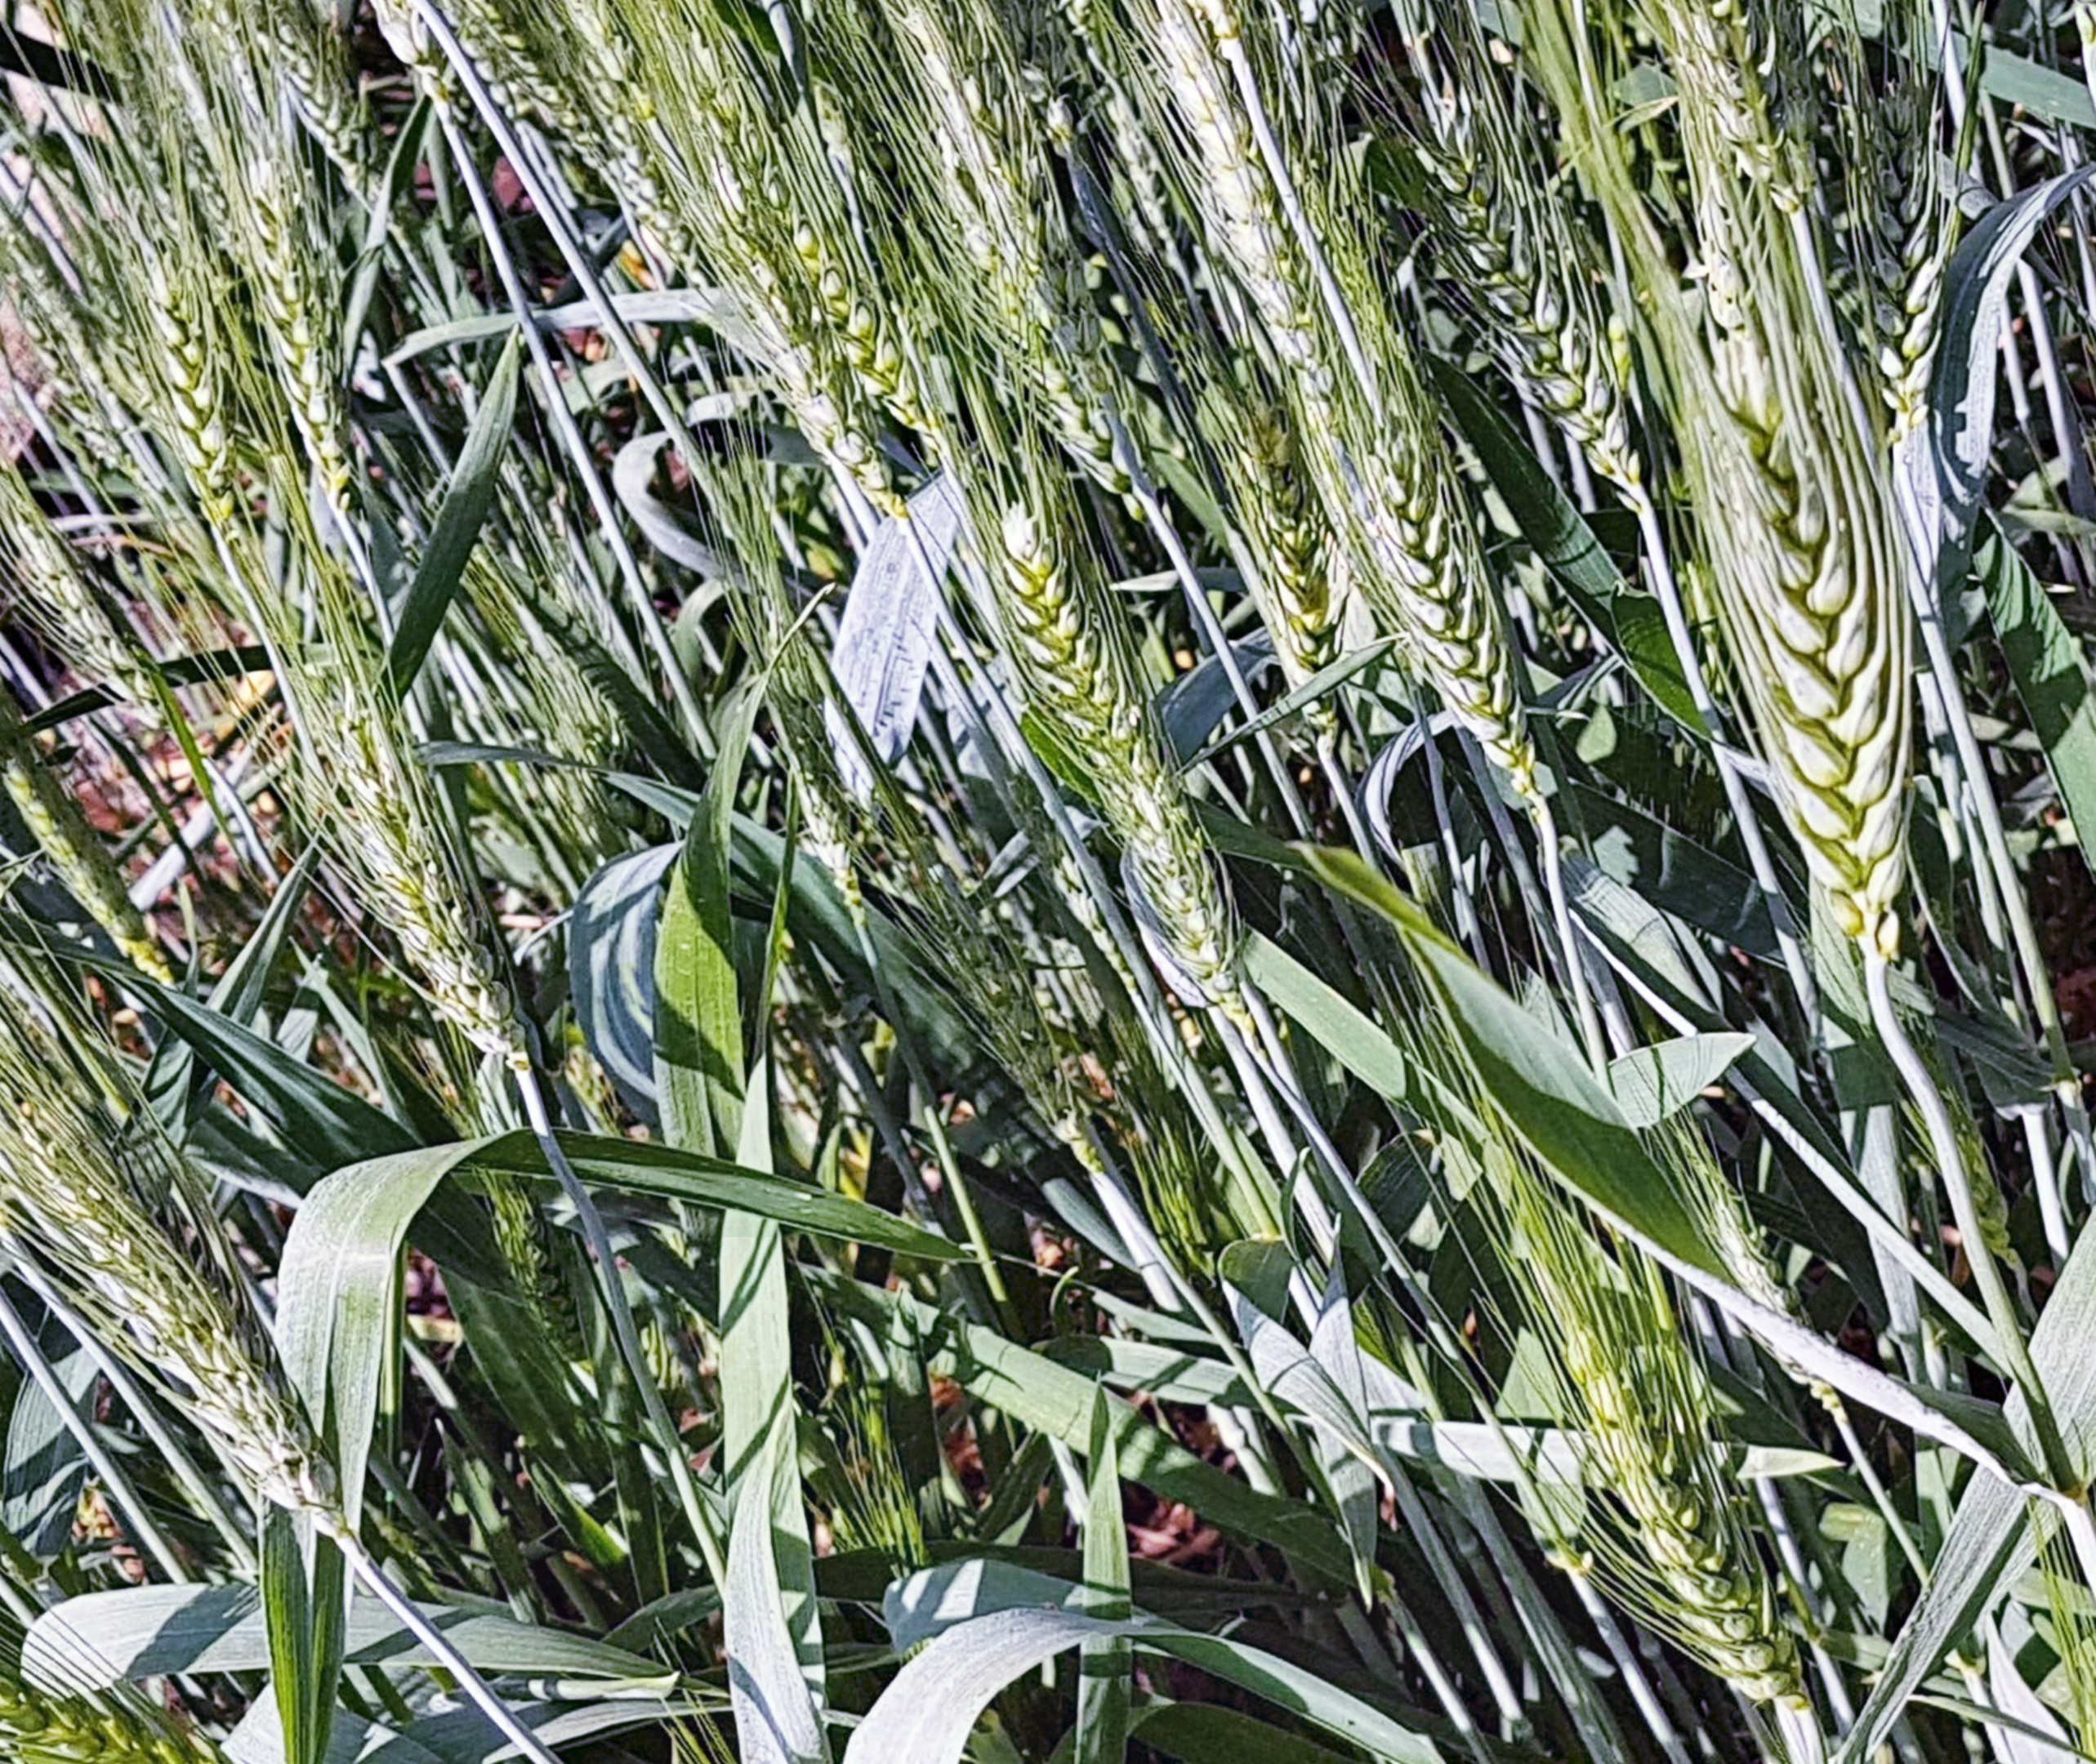Healthy Wheat: (1660, 364, 1951, 980), (1342, 416, 1562, 745), (962, 481, 1160, 831)
